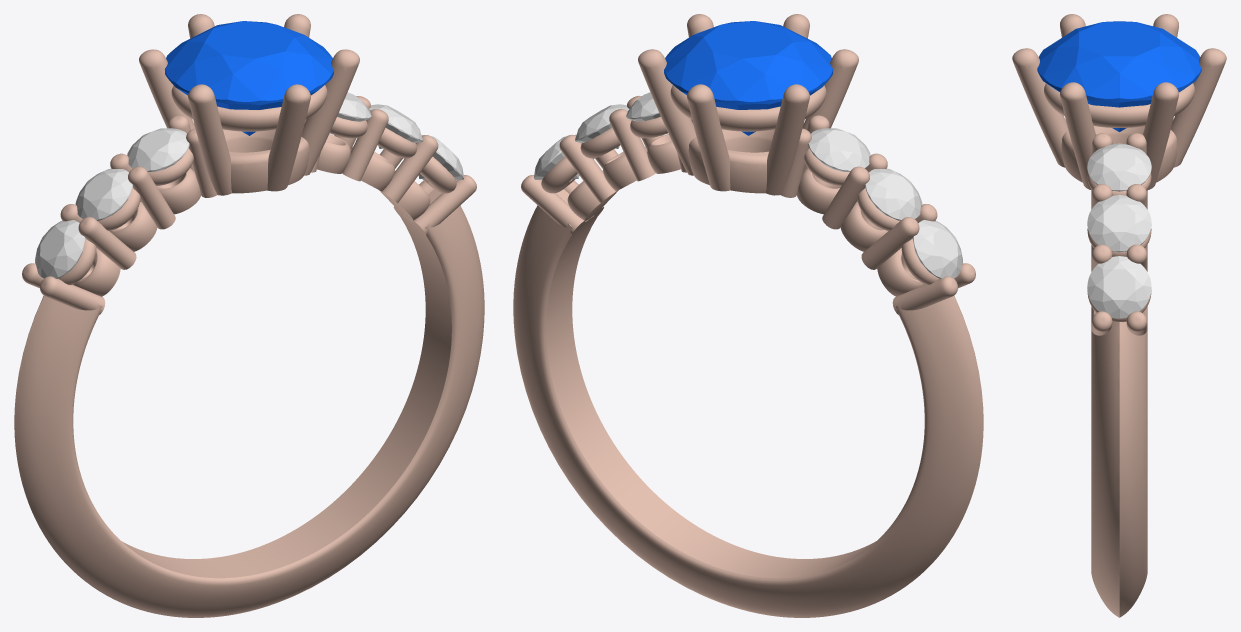
The model's file is bluesapphire-round-rosegold-6prong-knifeedge-3stone.glb.
3 views of the same model, side by side, from view 1: azimuth 30°, elevation 25°; view 2: azimuth 150°, elevation 25°; view 3: azimuth 270°, elevation 25° (orthographic). The views are drawn at different scales.
Parts seen in each view (by area): view 1: metal, stone, side.002, side.001, side, side.004, side.003, side.005; view 2: metal, stone, side.002, side.001, side, side.004, side.003, side.005; view 3: metal, stone, side.005, side.004, side.003.
Part boxes in pixels (<box>): metal: <box>14,14,484,617</box>; stone: <box>164,21,333,135</box>; side.002: <box>35,220,85,278</box>; side.001: <box>75,168,132,220</box>; side: <box>127,128,189,171</box>; side.004: <box>368,104,422,148</box>; side.003: <box>337,92,371,121</box>; side.005: <box>418,135,463,179</box>; metal: <box>513,14,983,617</box>; stone: <box>664,21,833,135</box>; side.002: <box>912,220,962,278</box>; side.001: <box>865,168,922,220</box>; side: <box>808,128,870,171</box>; side.004: <box>575,104,629,148</box>; side.003: <box>626,92,660,121</box>; side.005: <box>534,134,579,179</box>; metal: <box>1012,14,1226,617</box>; stone: <box>1037,21,1201,131</box>; side.005: <box>1087,256,1151,318</box>; side.004: <box>1087,195,1151,252</box>; side.003: <box>1087,143,1151,191</box>.
Size of the model in its own units: 20.5 by 23.81 by 8.35.
